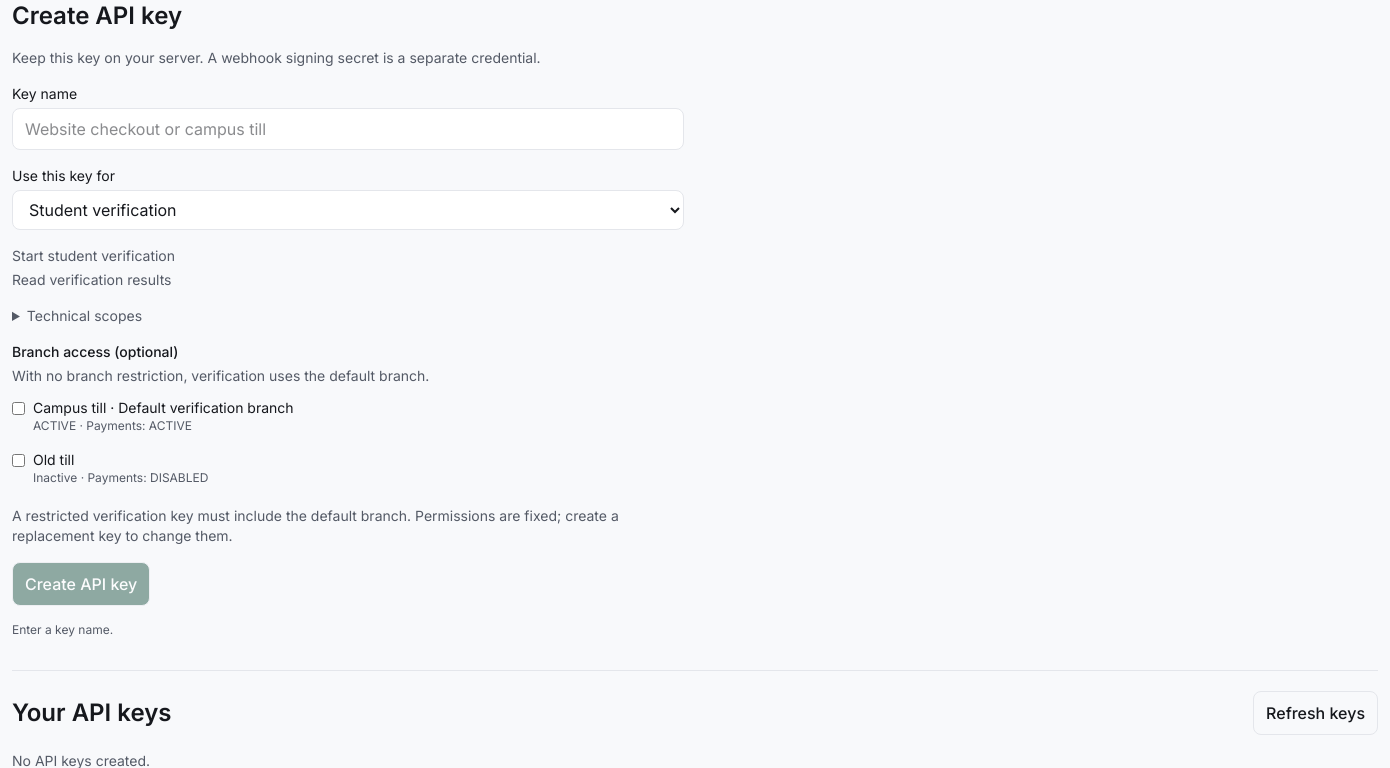
Test: API key settings › prevents duplicate creation and never automatically retries a lost response
Type "Website" into the field labelled "Key name" at (348, 129), box top-left (12, 108), bottom-right (684, 150)
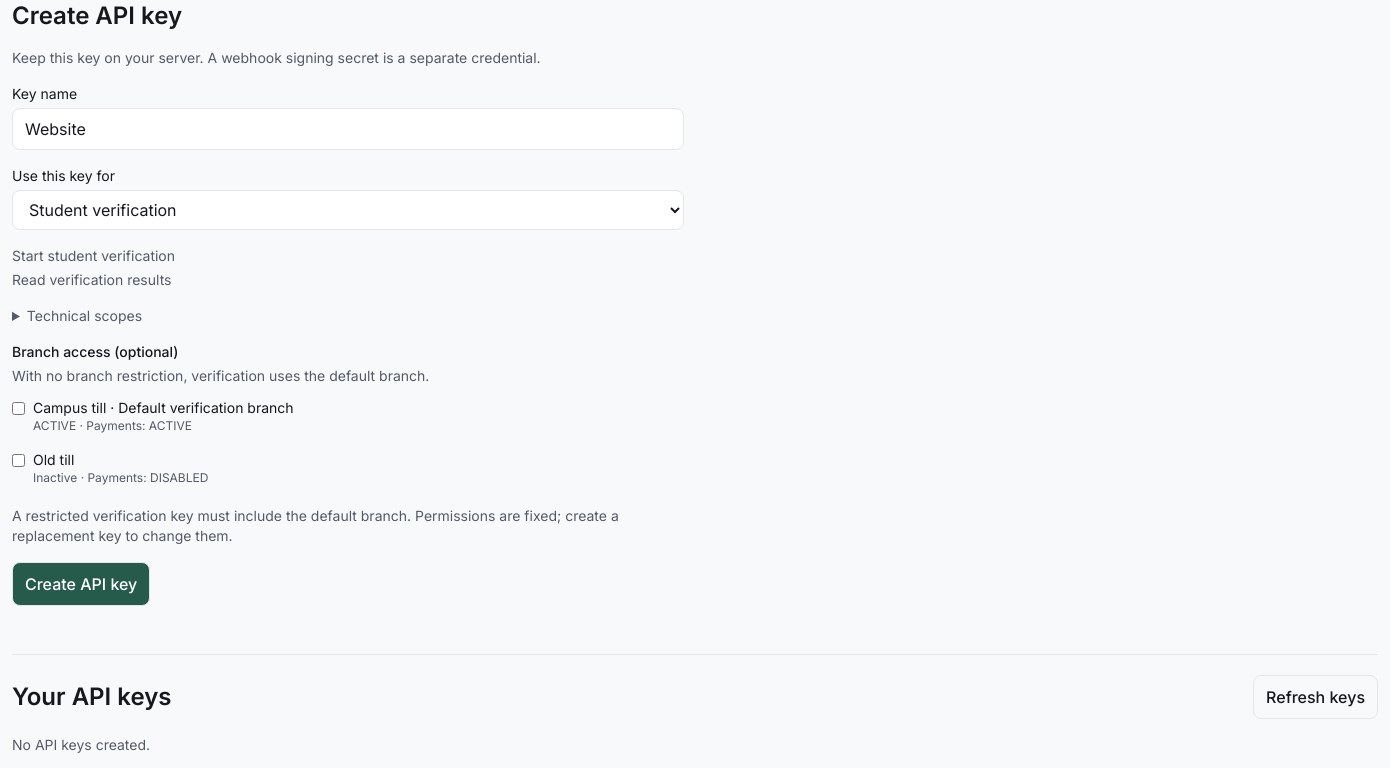
Click the button "Create API key" at (81, 584), box top-left (12, 562), bottom-right (150, 606)
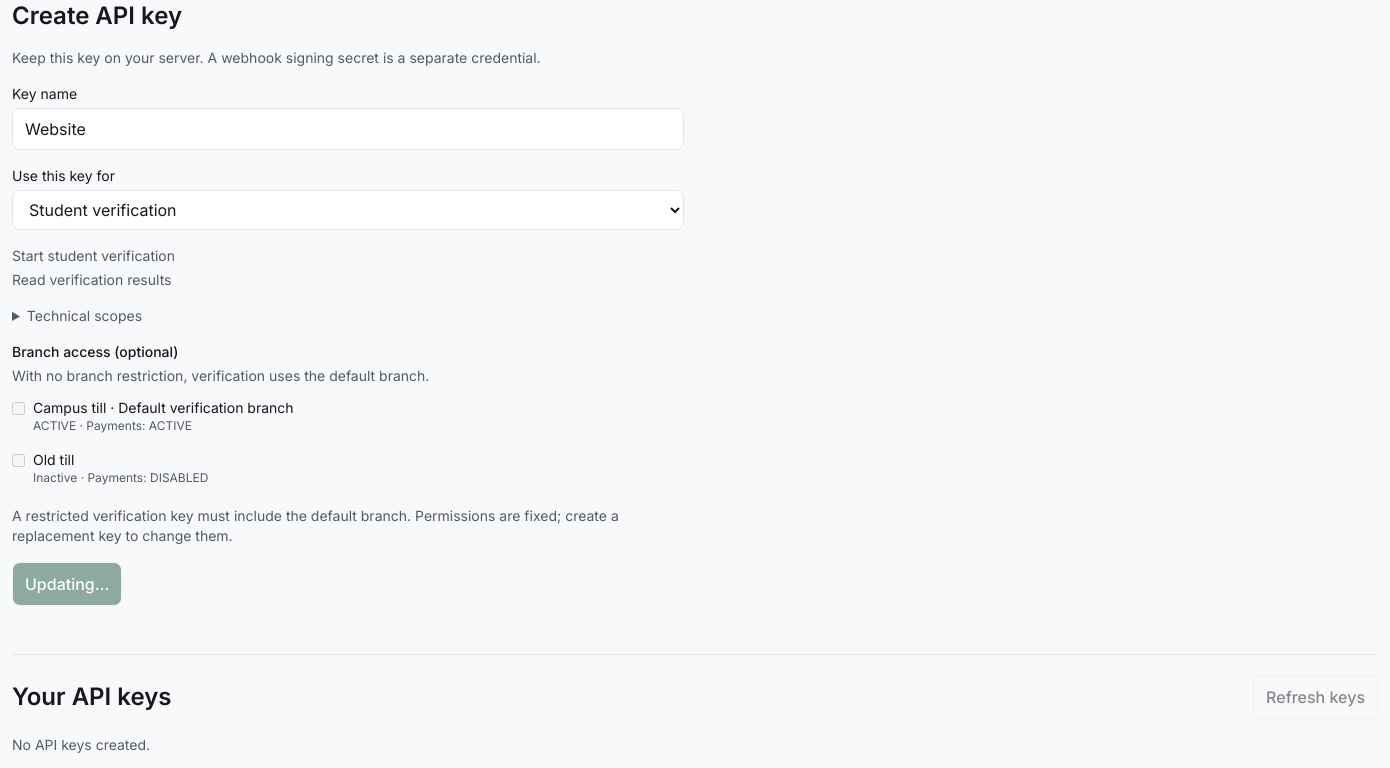
Click the button named "Create API key" at (67, 584), box top-left (12, 562), bottom-right (122, 606)
(page scrolled)
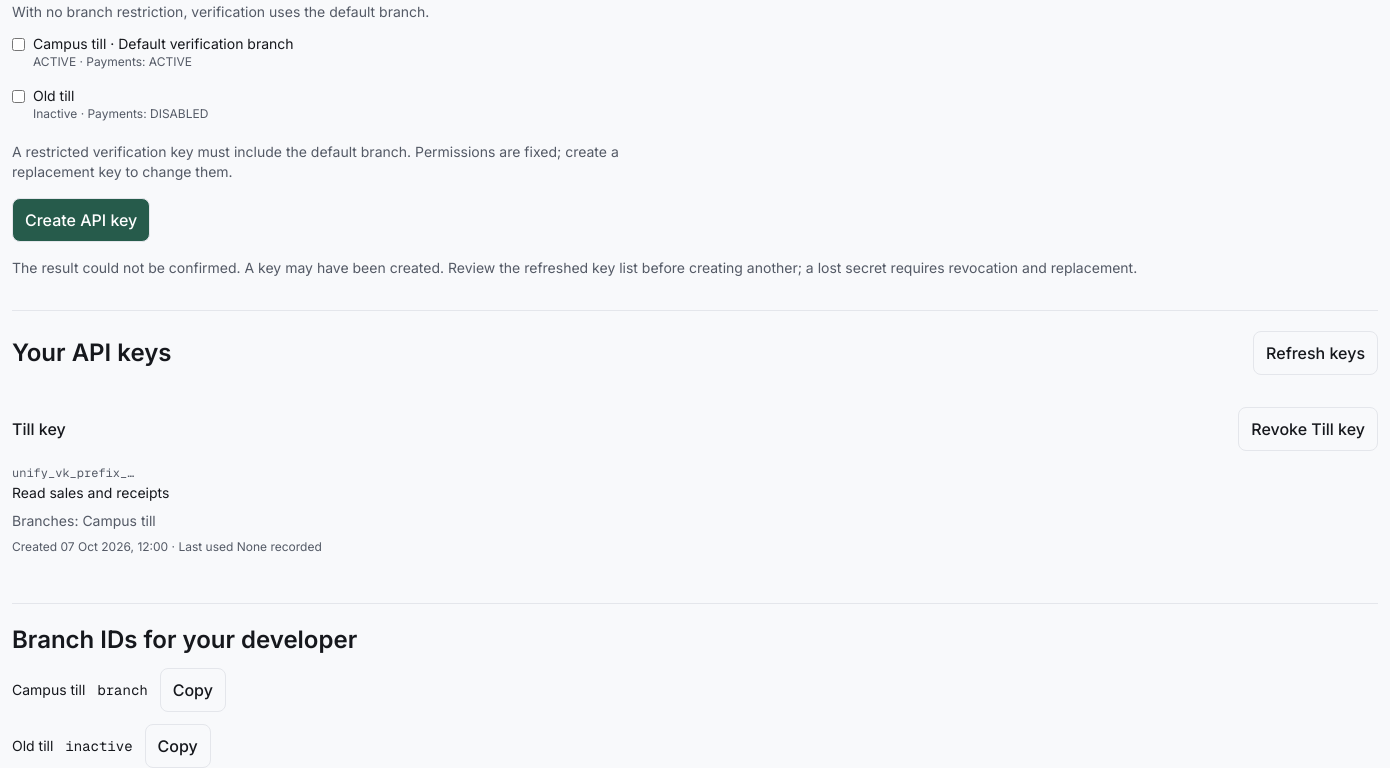
Expected: the text "A key may have been created" is shown, top-left (12, 259), bottom-right (1137, 276)
Expected: the heading "Till key" is shown, top-left (12, 417), bottom-right (66, 441)
